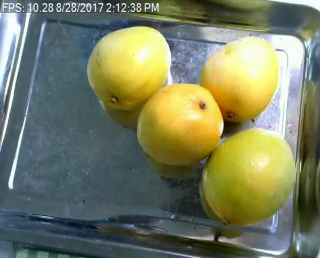Mango: (204, 128, 294, 226), (136, 83, 224, 168), (83, 28, 171, 112), (201, 36, 276, 120)
